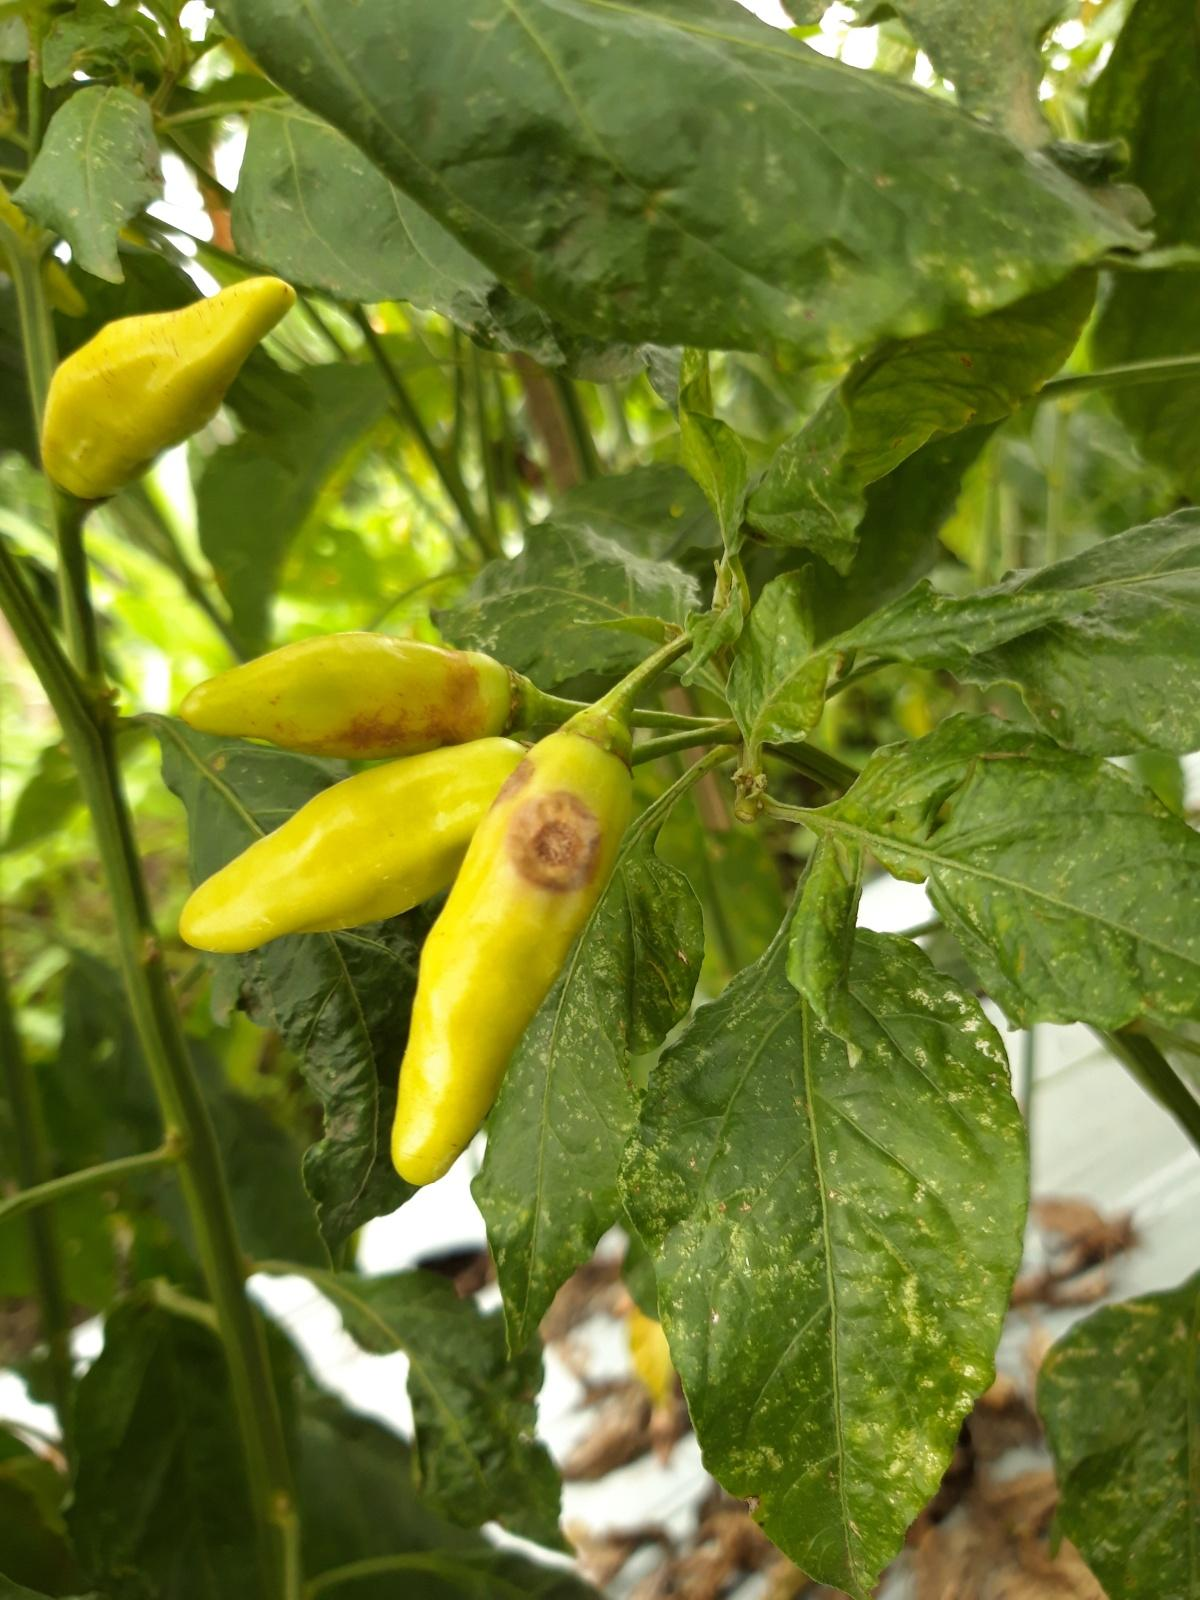cabai_normal: (182, 740, 536, 954), (42, 276, 297, 529)
lalat_buah: (391, 704, 635, 1188), (178, 630, 534, 757)
